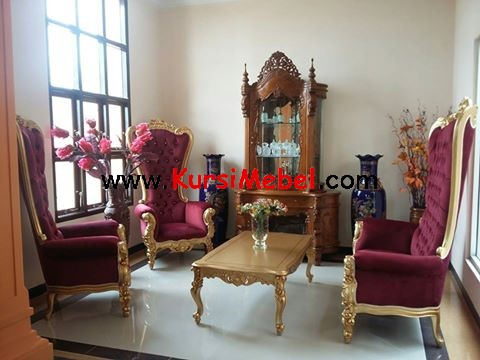Carving Chair: (351, 110, 464, 348)
Carving Table: (191, 222, 321, 335)
